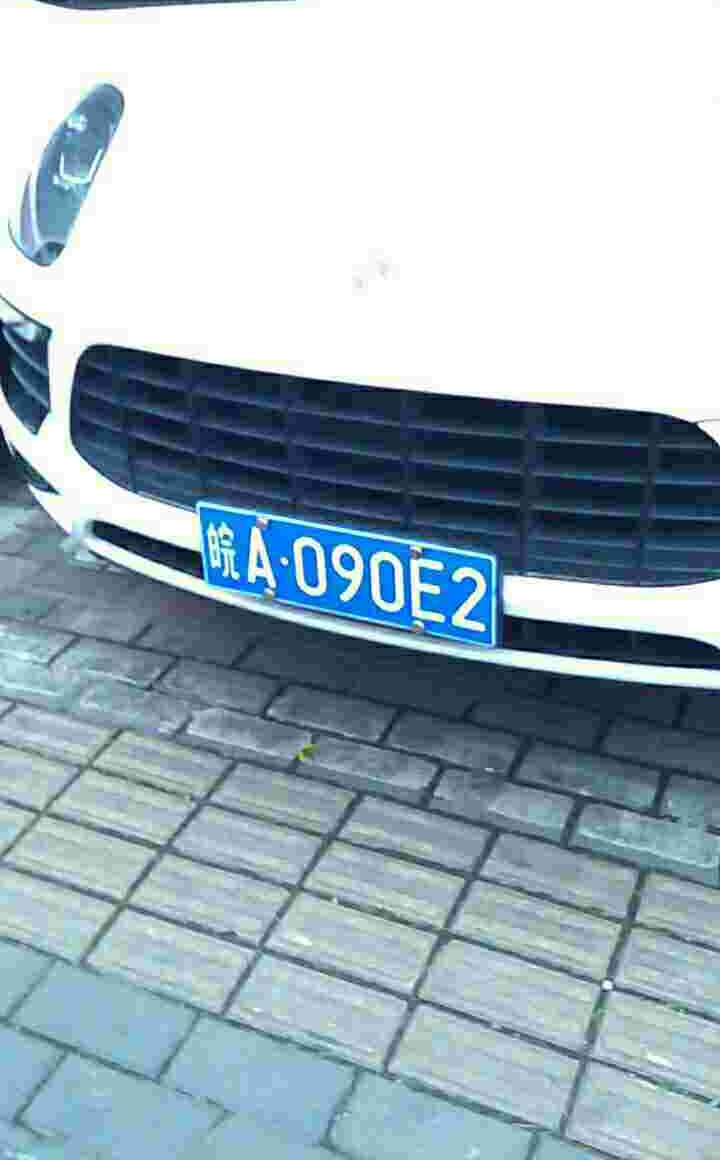license_plate: (193, 499, 492, 650)
